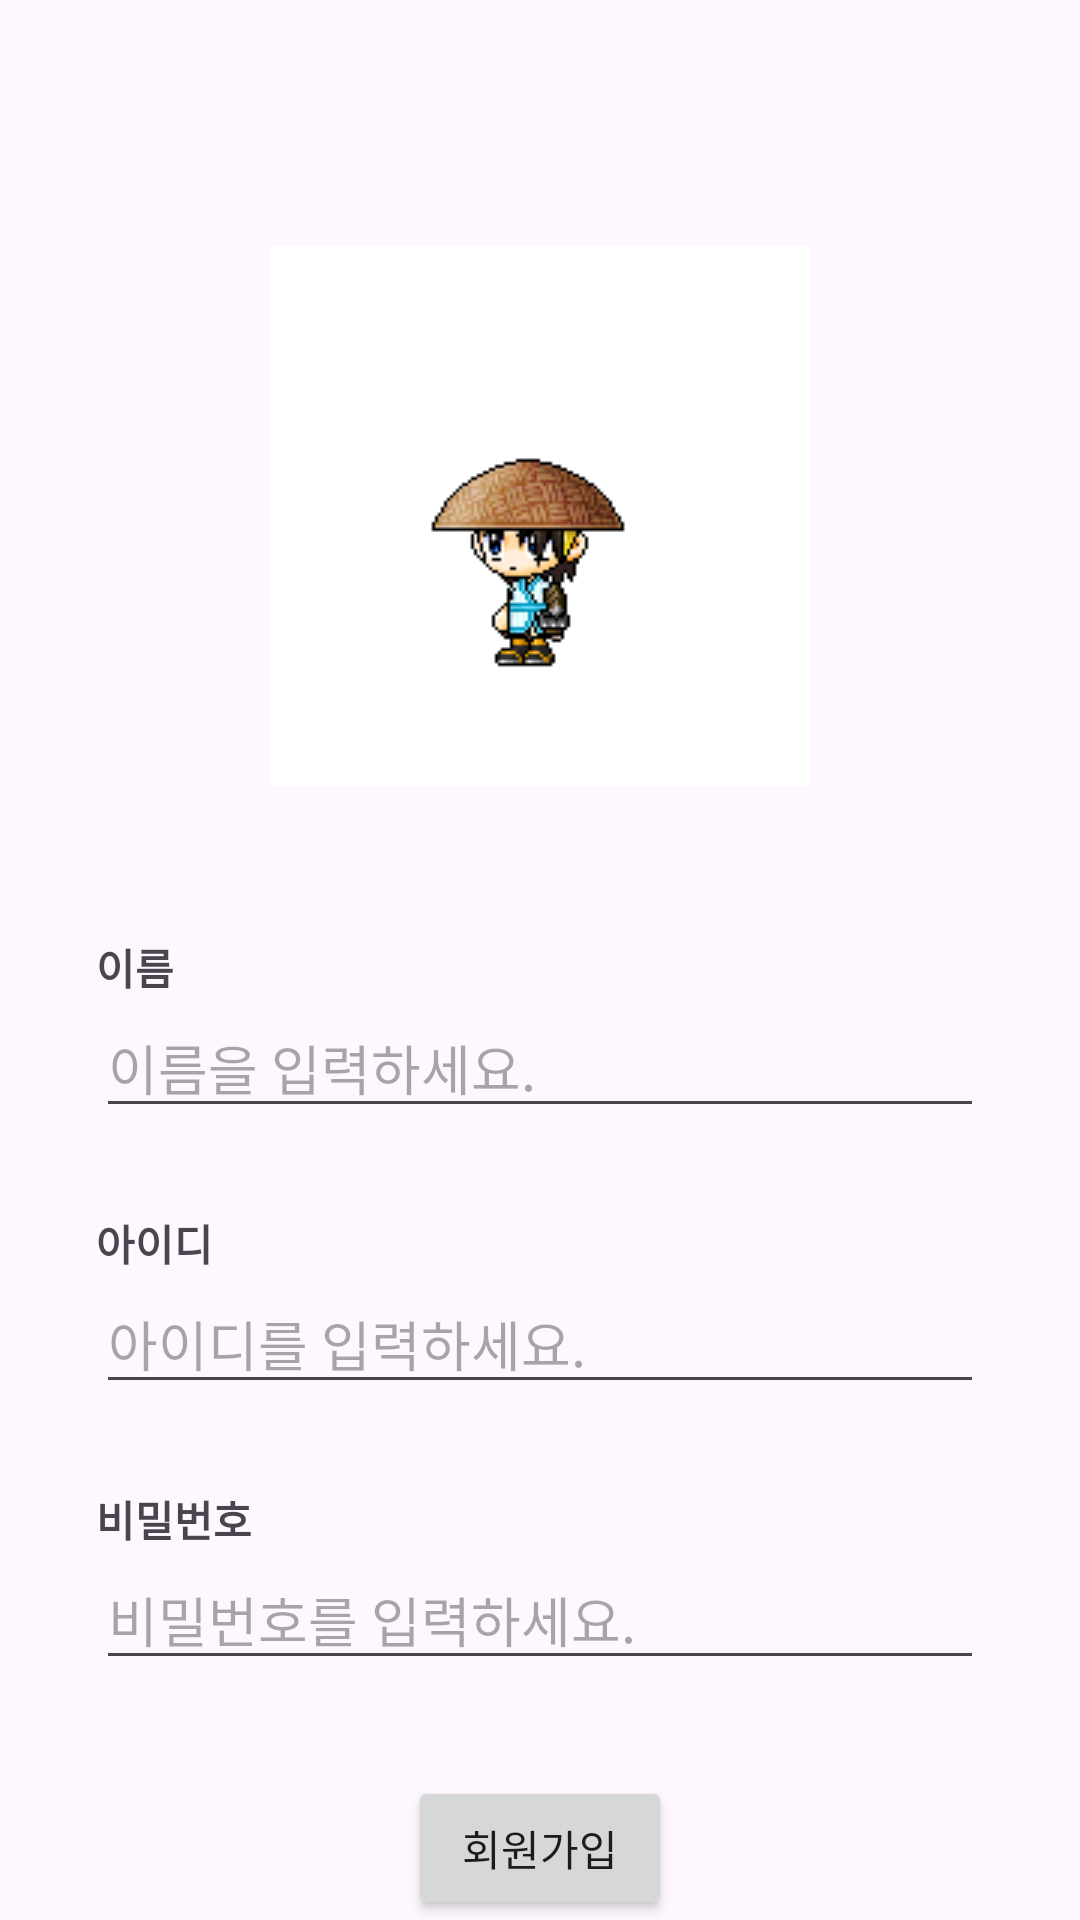

Point at icon controls on the screen. Image size 1080×1920, points as [x,y].
character: [528,562]
